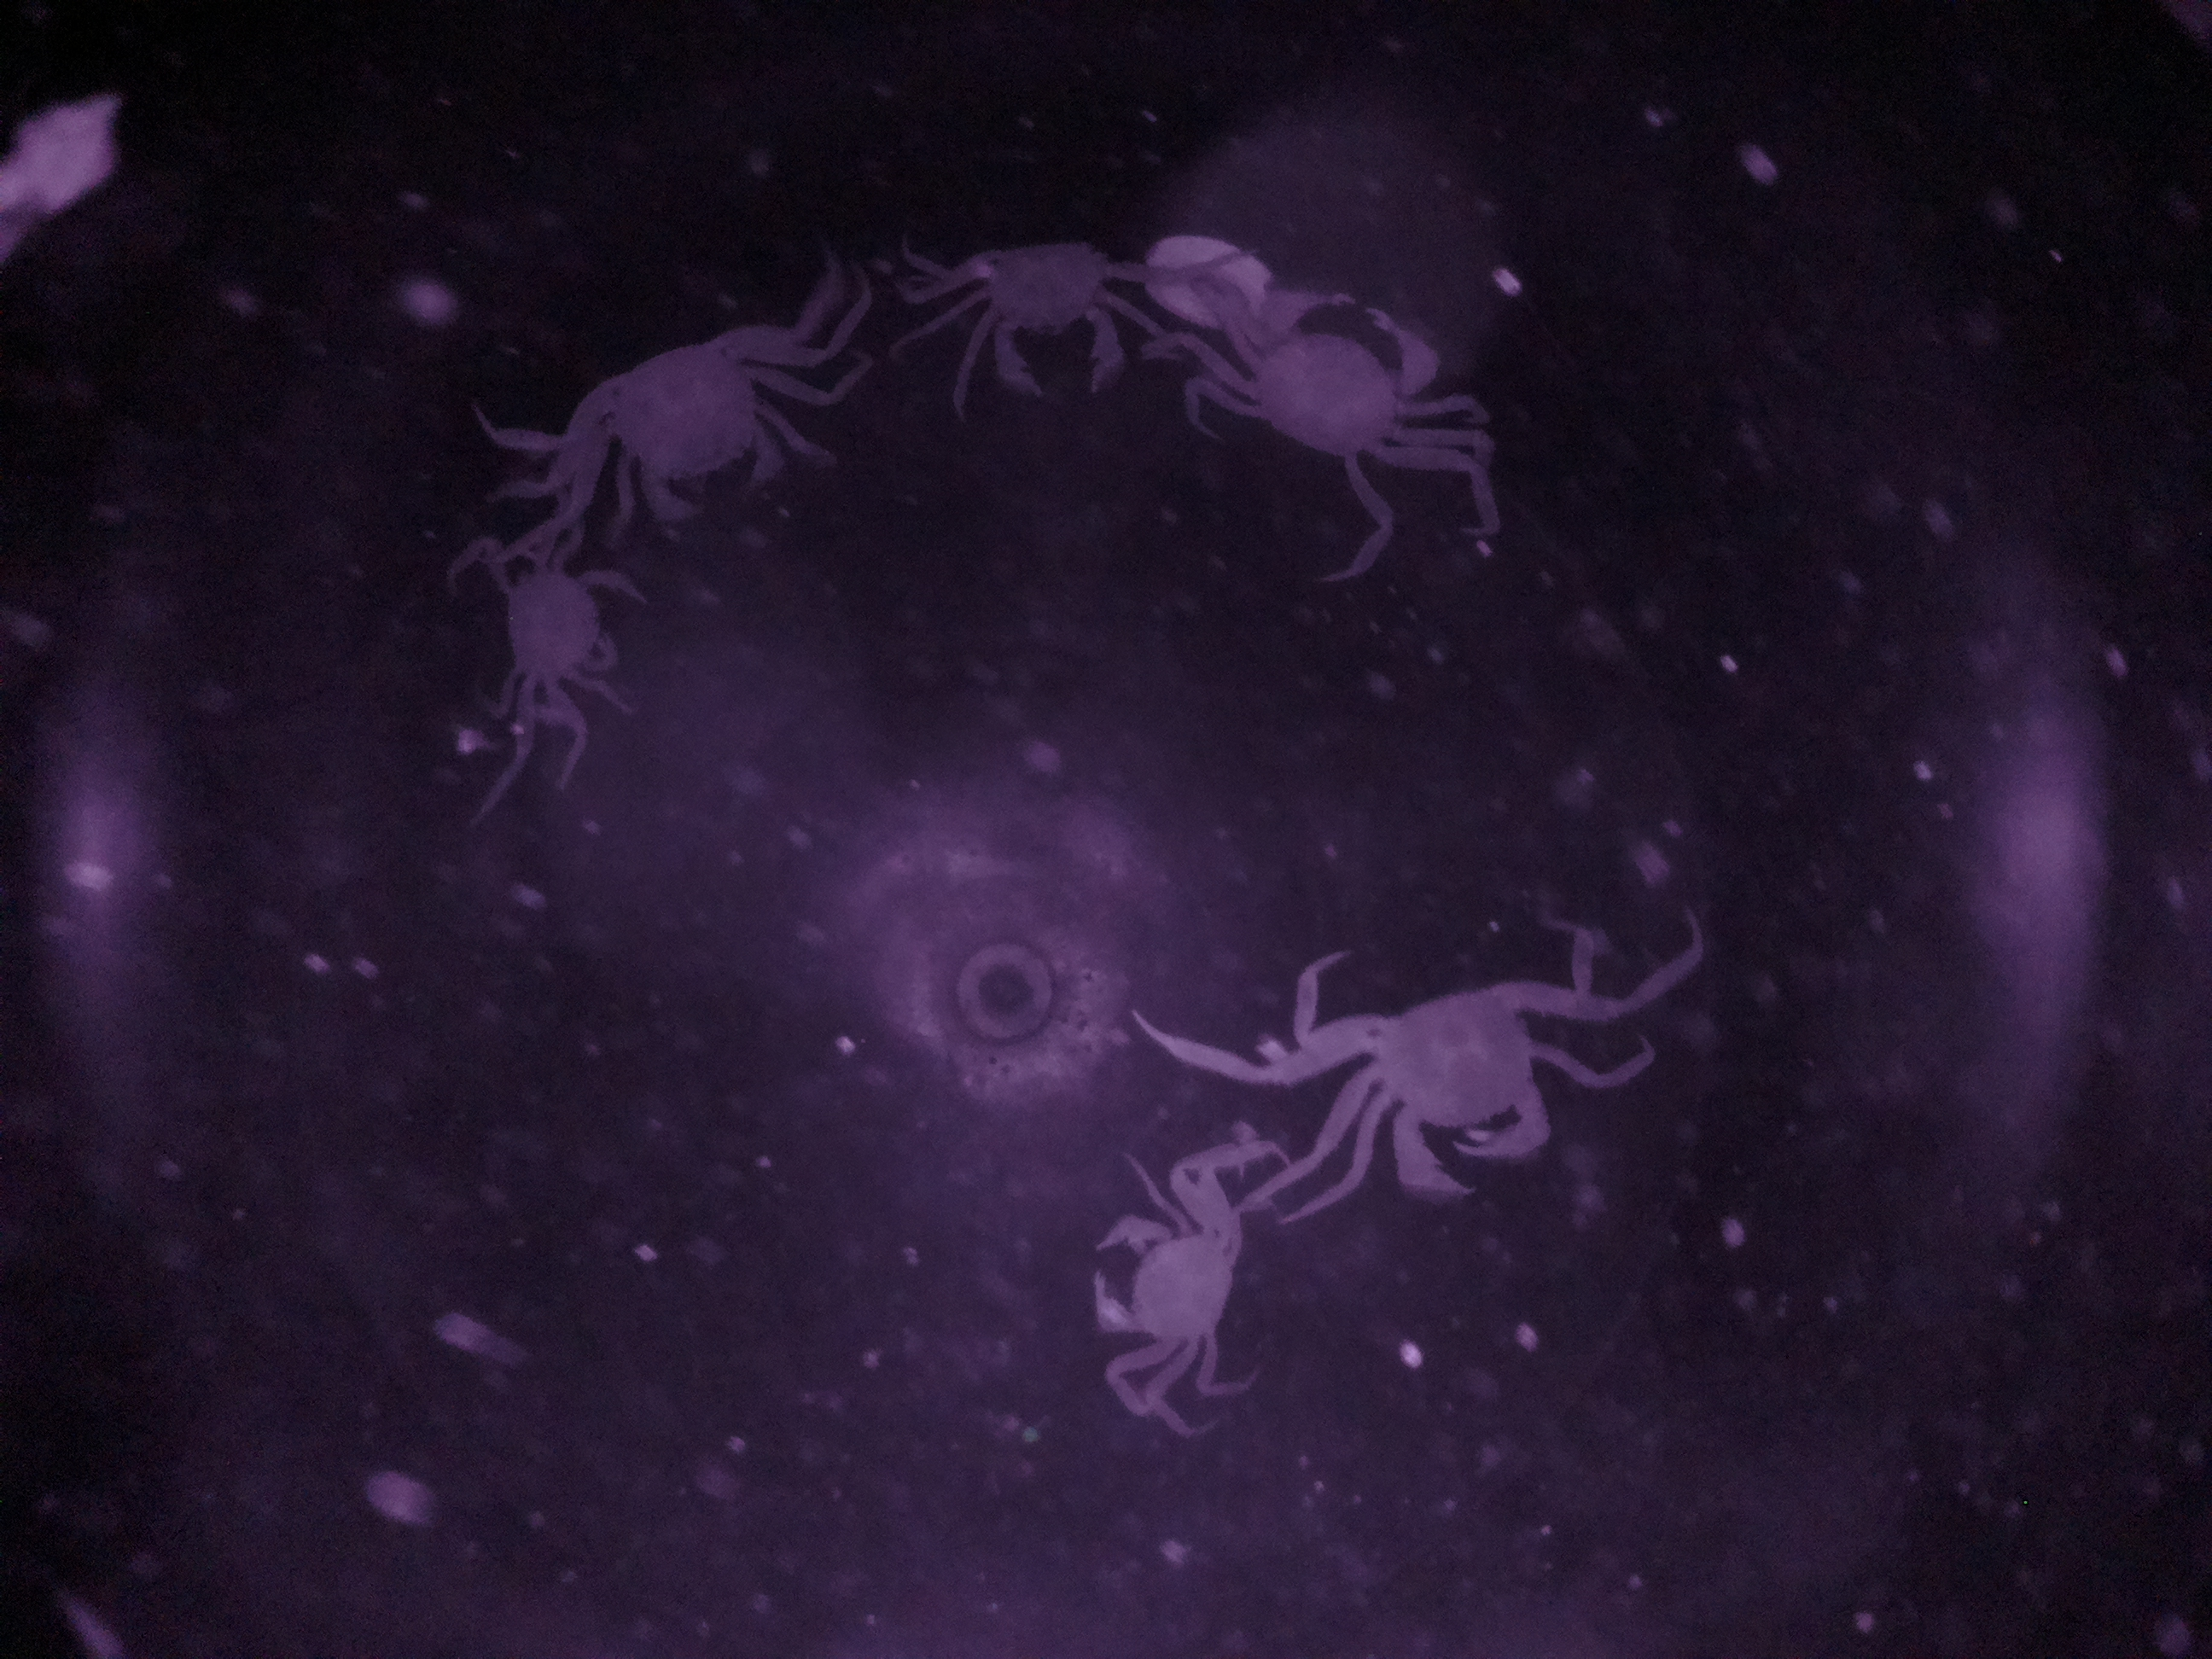Crab: (1324, 941, 1609, 1218), (1184, 268, 1491, 490), (557, 291, 819, 538), (462, 509, 655, 774), (930, 202, 1137, 430), (1062, 1182, 1268, 1373)
